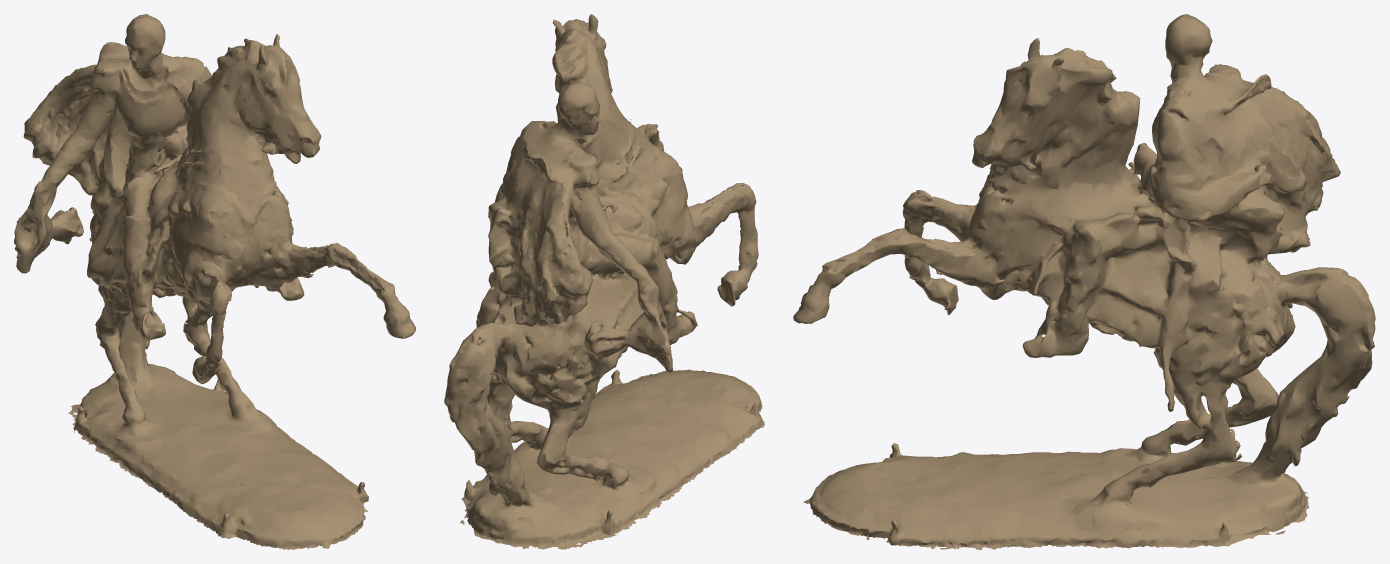
The model's file is statue.glb.
The picture shows the model from 3 angles, left to right: view 1: azimuth 30°, elevation 25°; view 2: azimuth 150°, elevation 25°; view 3: azimuth 270°, elevation 25°; orthographic projection. The views are drawn at different scales.
Visible parts, largest first — view 1: estatua; view 2: estatua; view 3: estatua.
Boxes of the visible parts, x1,y1,x2,y2 form: estatua: (14, 14, 415, 549); estatua: (444, 14, 764, 549); estatua: (793, 14, 1375, 549).
Size of the model in its own units: 2.15 by 4 by 4.36.
